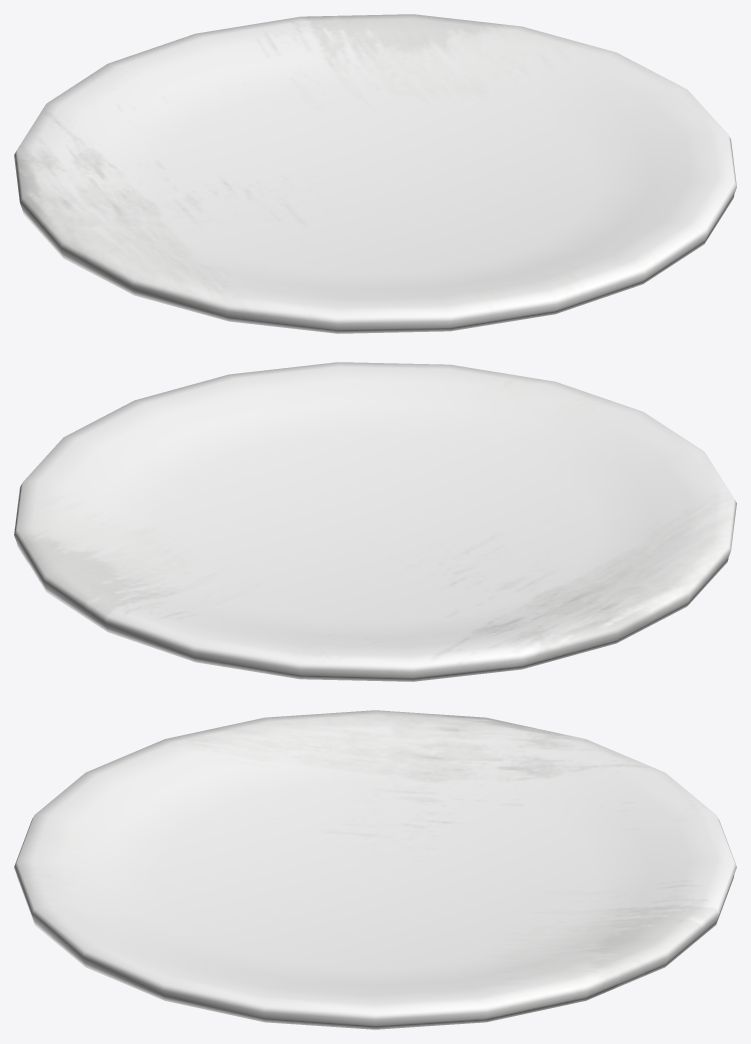
File: SM_Plate.fbx
3 views of the same model, one above another, from view 1: azimuth 30°, elevation 25°; view 2: azimuth 150°, elevation 25°; view 3: azimuth 270°, elevation 25° (orthographic).
Visible parts, largest first — view 1: Plate; view 2: Plate; view 3: Plate.
Part boxes in pixels (x1,y1,x2,y2): Plate: (14,14,736,333); Plate: (14,362,736,681); Plate: (14,710,736,1029).
Bounding box in the file's own units: 29.23 × 2.77 × 29.23.
Materials: 1 (1 with a texture image).
